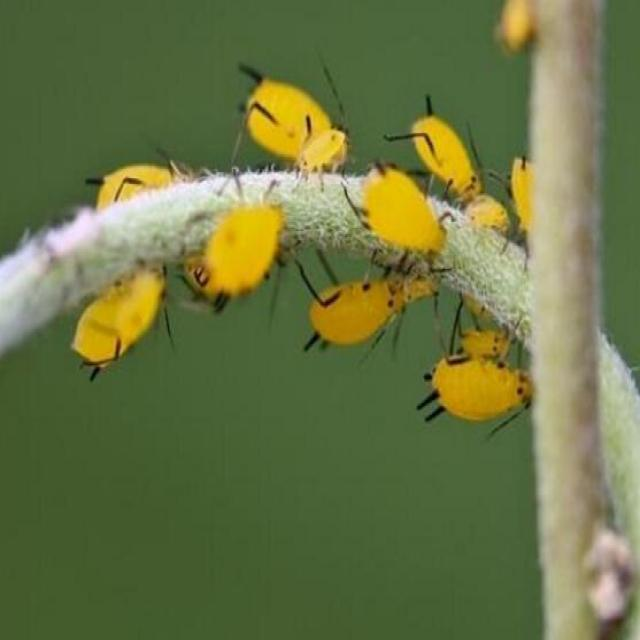aphid: (206, 62, 358, 194), (419, 317, 544, 456), (304, 226, 416, 367), (338, 157, 458, 270), (381, 92, 493, 206), (76, 264, 170, 384), (184, 201, 280, 316)
